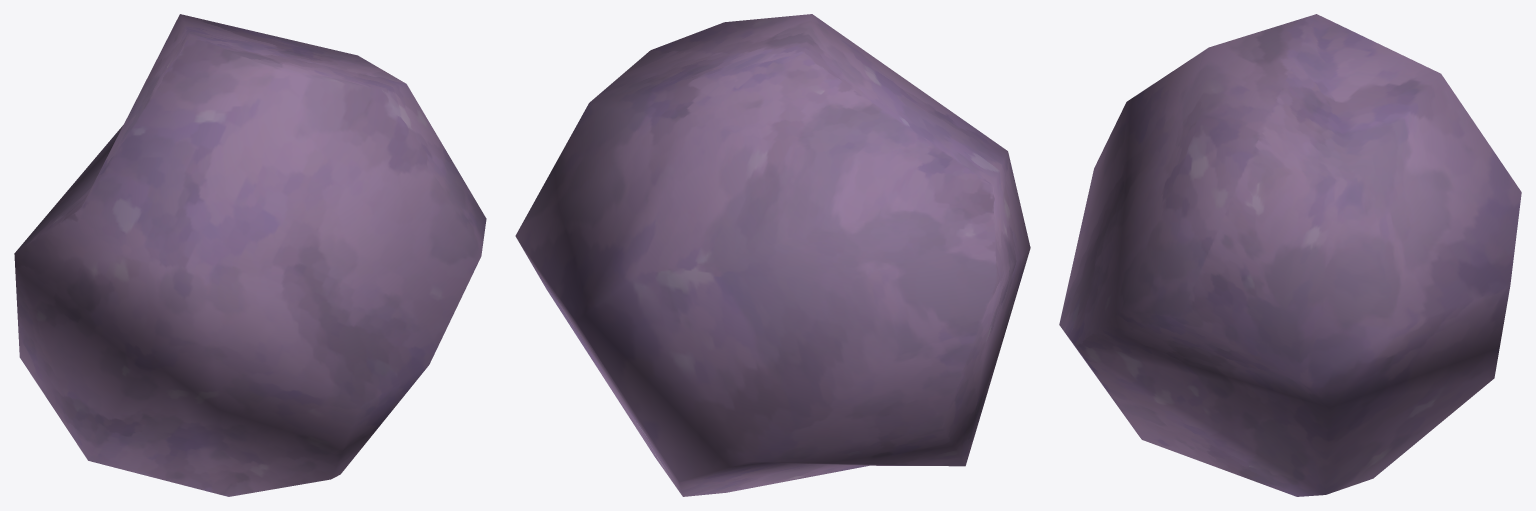
Rendered from Rock01.fbx.
3 renders of one model, left to right at view 1: azimuth 30°, elevation 25°; view 2: azimuth 150°, elevation 25°; view 3: azimuth 270°, elevation 25°, orthographic. The views are drawn at different scales.
Parts seen in each view (by area): view 1: Rock01_LP; view 2: Rock01_LP; view 3: Rock01_LP.
Part boxes in pixels (bbox=[...]): Rock01_LP: bbox=[14, 14, 486, 496]; Rock01_LP: bbox=[515, 14, 1030, 496]; Rock01_LP: bbox=[1059, 14, 1521, 496].
Size of the model in its own units: 1985 by 1913 by 1833.
